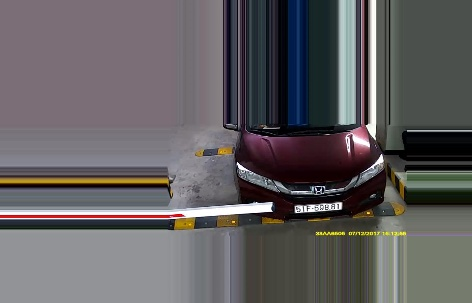plate: (292, 200, 344, 216)
